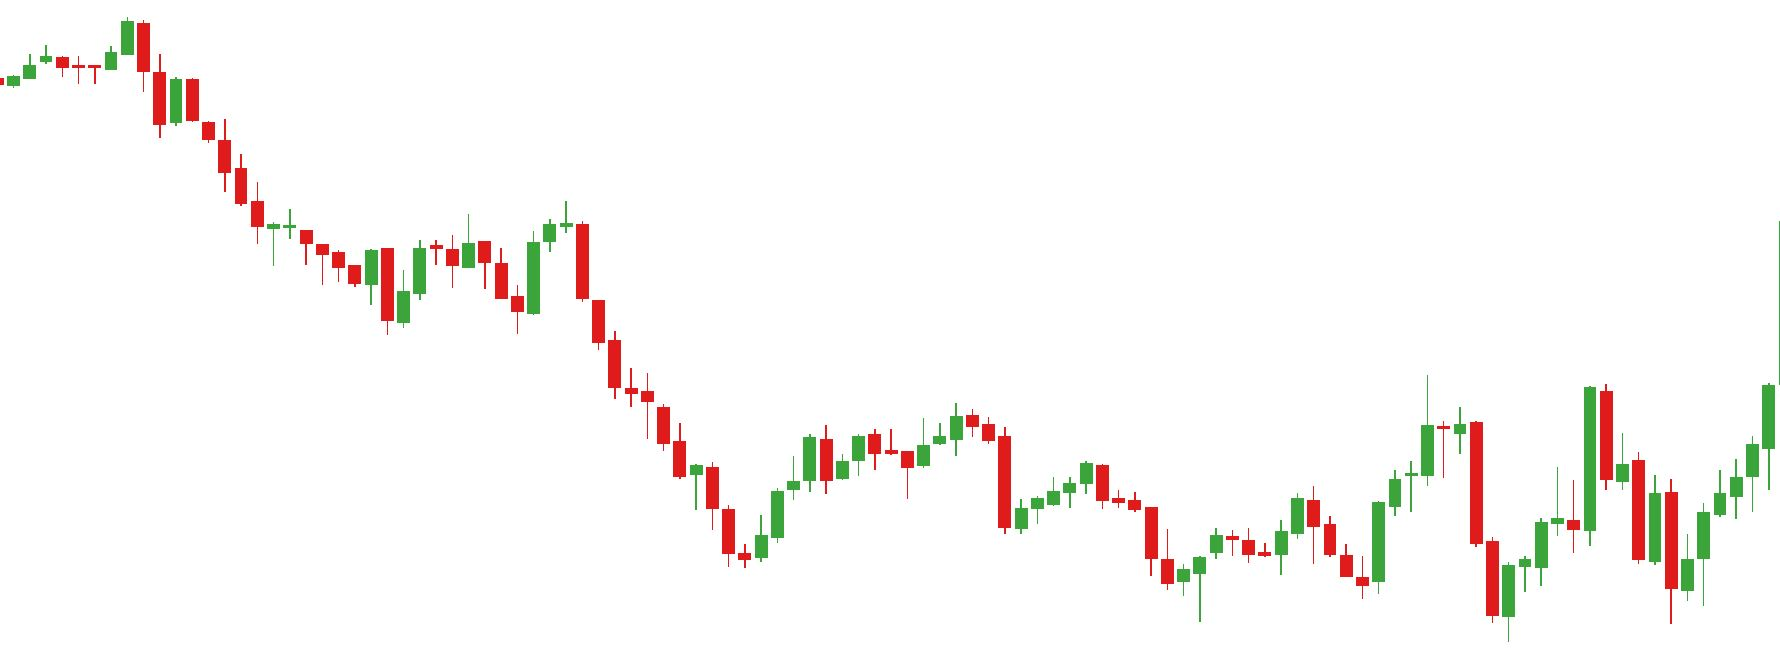buy: (1355, 490, 1519, 650)
sell: (459, 199, 591, 282)
